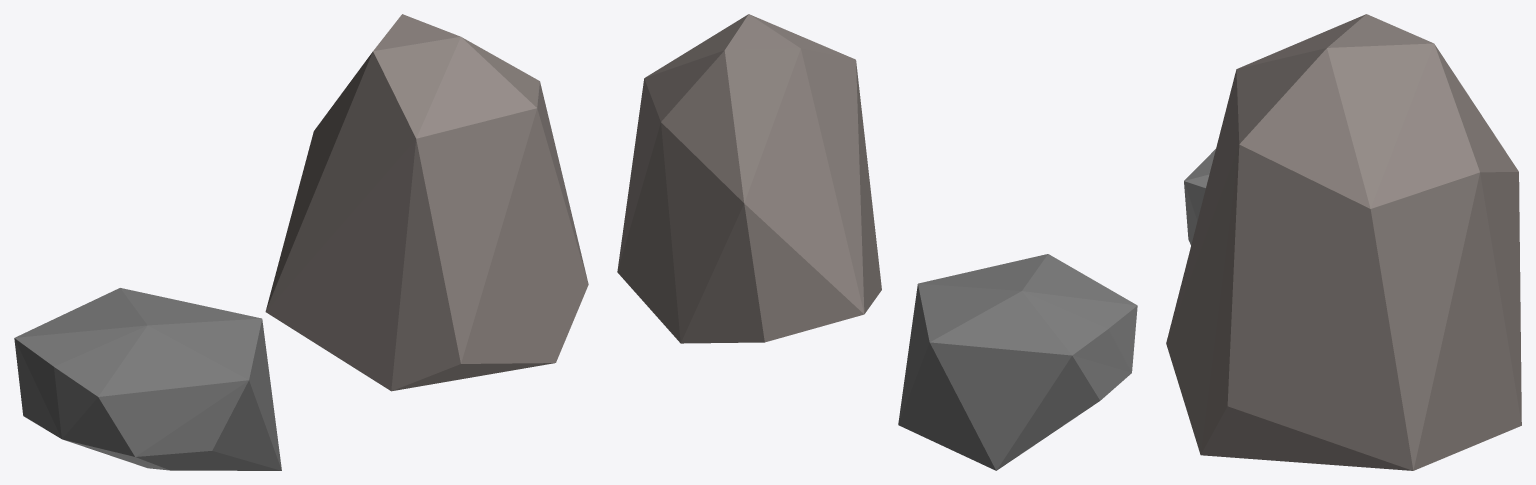
File: Planta_Rocas_006.fbx
3 renders of one model, left to right at view 1: azimuth 30°, elevation 25°; view 2: azimuth 150°, elevation 25°; view 3: azimuth 270°, elevation 25°, orthographic. The views are drawn at different scales.
Parts seen in each view (by area): view 1: Rock1; view 2: Rock1; view 3: Rock1.
Boxes of the visible parts, x1,y1,x2,y2 form: Rock1: [14, 14, 588, 470]; Rock1: [617, 14, 1137, 470]; Rock1: [1166, 14, 1521, 470].
Bounding box in the file's own units: 109 × 72.89 × 51.22.
Materials: 2 (2 with a texture image).
